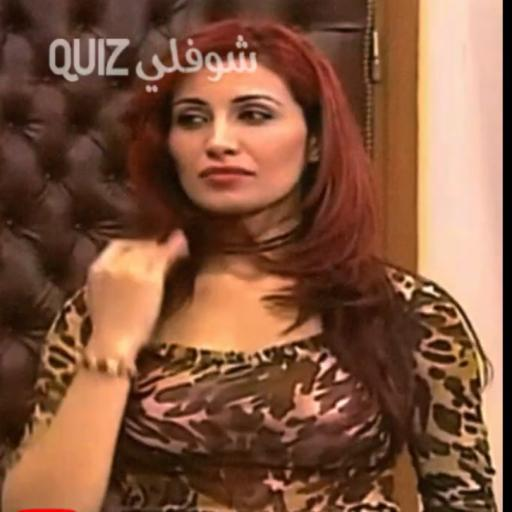Dalanda: (133, 36, 321, 227)
